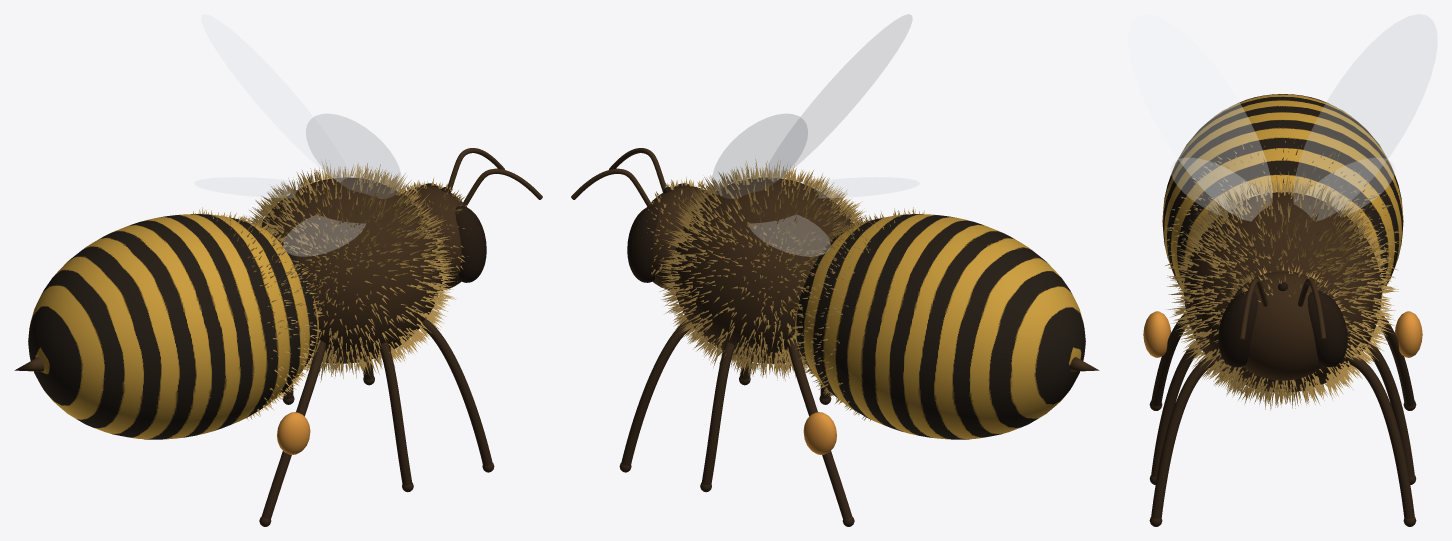
The model's file is bee-hero-cerana.glb.
The picture shows the model from 3 angles, left to right: view 1: azimuth 30°, elevation 25°; view 2: azimuth 150°, elevation 25°; view 3: azimuth 270°, elevation 25°; orthographic projection. The views are drawn at different scales.
Visible parts, largest first — view 1: abdomen, thorax, fuzz, foreWingL, foreWingR, head, hindWingR, compoundEyeR, foreLegR, hindWingL, midLegR, hindLegR (+1 smaller); view 2: abdomen, thorax, fuzz, foreWingR, foreWingL, head, hindWingL, compoundEyeL, foreLegL, hindWingR, midLegL, hindLegL (+1 smaller); view 3: abdomen, fuzz, thorax, foreWingL, foreWingR, head, hindWingL, hindWingR, compoundEyeL, compoundEyeR, foreLegL, foreLegR (+8 smaller).
Part boxes in pixels (left/top/right/bottom): abdomen: left=28, top=214, right=318, bottom=439; thorax: left=261, top=177, right=441, bottom=363; fuzz: left=193, top=161, right=478, bottom=420; foreWingL: left=201, top=14, right=349, bottom=182; foreWingR: left=306, top=114, right=401, bottom=198; head: left=402, top=186, right=466, bottom=290; hindWingR: left=283, top=214, right=365, bottom=256; compoundEyeR: left=455, top=206, right=486, bottom=282; foreLegR: left=420, top=319, right=492, bottom=465; hindWingL: left=194, top=177, right=304, bottom=197; midLegR: left=379, top=342, right=412, bottom=485; hindLegR: left=261, top=341, right=326, bottom=519; abdomen: left=795, top=214, right=1085, bottom=439; thorax: left=672, top=177, right=852, bottom=363; fuzz: left=637, top=159, right=924, bottom=420; foreWingR: left=765, top=14, right=912, bottom=182; foreWingL: left=712, top=114, right=807, bottom=198; head: left=647, top=186, right=709, bottom=289; hindWingL: left=749, top=215, right=830, bottom=256; compoundEyeL: left=627, top=206, right=658, bottom=282; foreLegL: left=621, top=319, right=692, bottom=465; hindWingR: left=804, top=177, right=919, bottom=197; midLegL: left=701, top=342, right=734, bottom=485; hindLegL: left=787, top=341, right=852, bottom=519; abdomen: left=1162, top=94, right=1403, bottom=292; fuzz: left=1164, top=140, right=1399, bottom=410; thorax: left=1184, top=192, right=1381, bottom=392; foreWingL: left=1293, top=14, right=1437, bottom=220; foreWingR: left=1128, top=14, right=1272, bottom=221; head: left=1227, top=271, right=1337, bottom=380; hindWingL: left=1307, top=158, right=1395, bottom=216; hindWingR: left=1170, top=158, right=1258, bottom=215; compoundEyeL: left=1307, top=290, right=1347, bottom=367; compoundEyeR: left=1218, top=291, right=1258, bottom=367; foreLegL: left=1347, top=355, right=1414, bottom=518; foreLegR: left=1151, top=356, right=1217, bottom=518.
Bounding box in the file's own units: 1.18 × 0.8929 × 0.5854.
7 materials, 1 textured.
